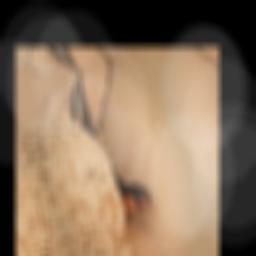Swallow: (53, 63, 155, 228)
